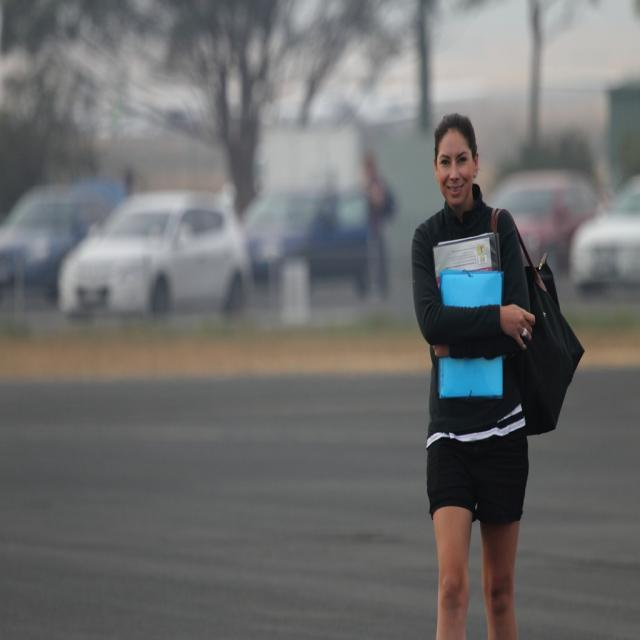car: (56, 183, 251, 323)
